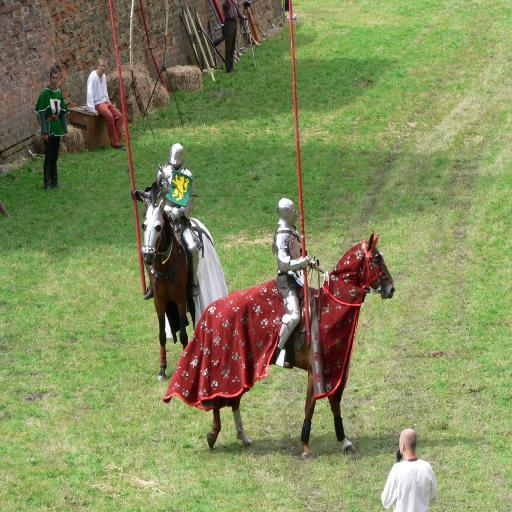horse: (201, 228, 394, 454), (132, 188, 216, 388)
